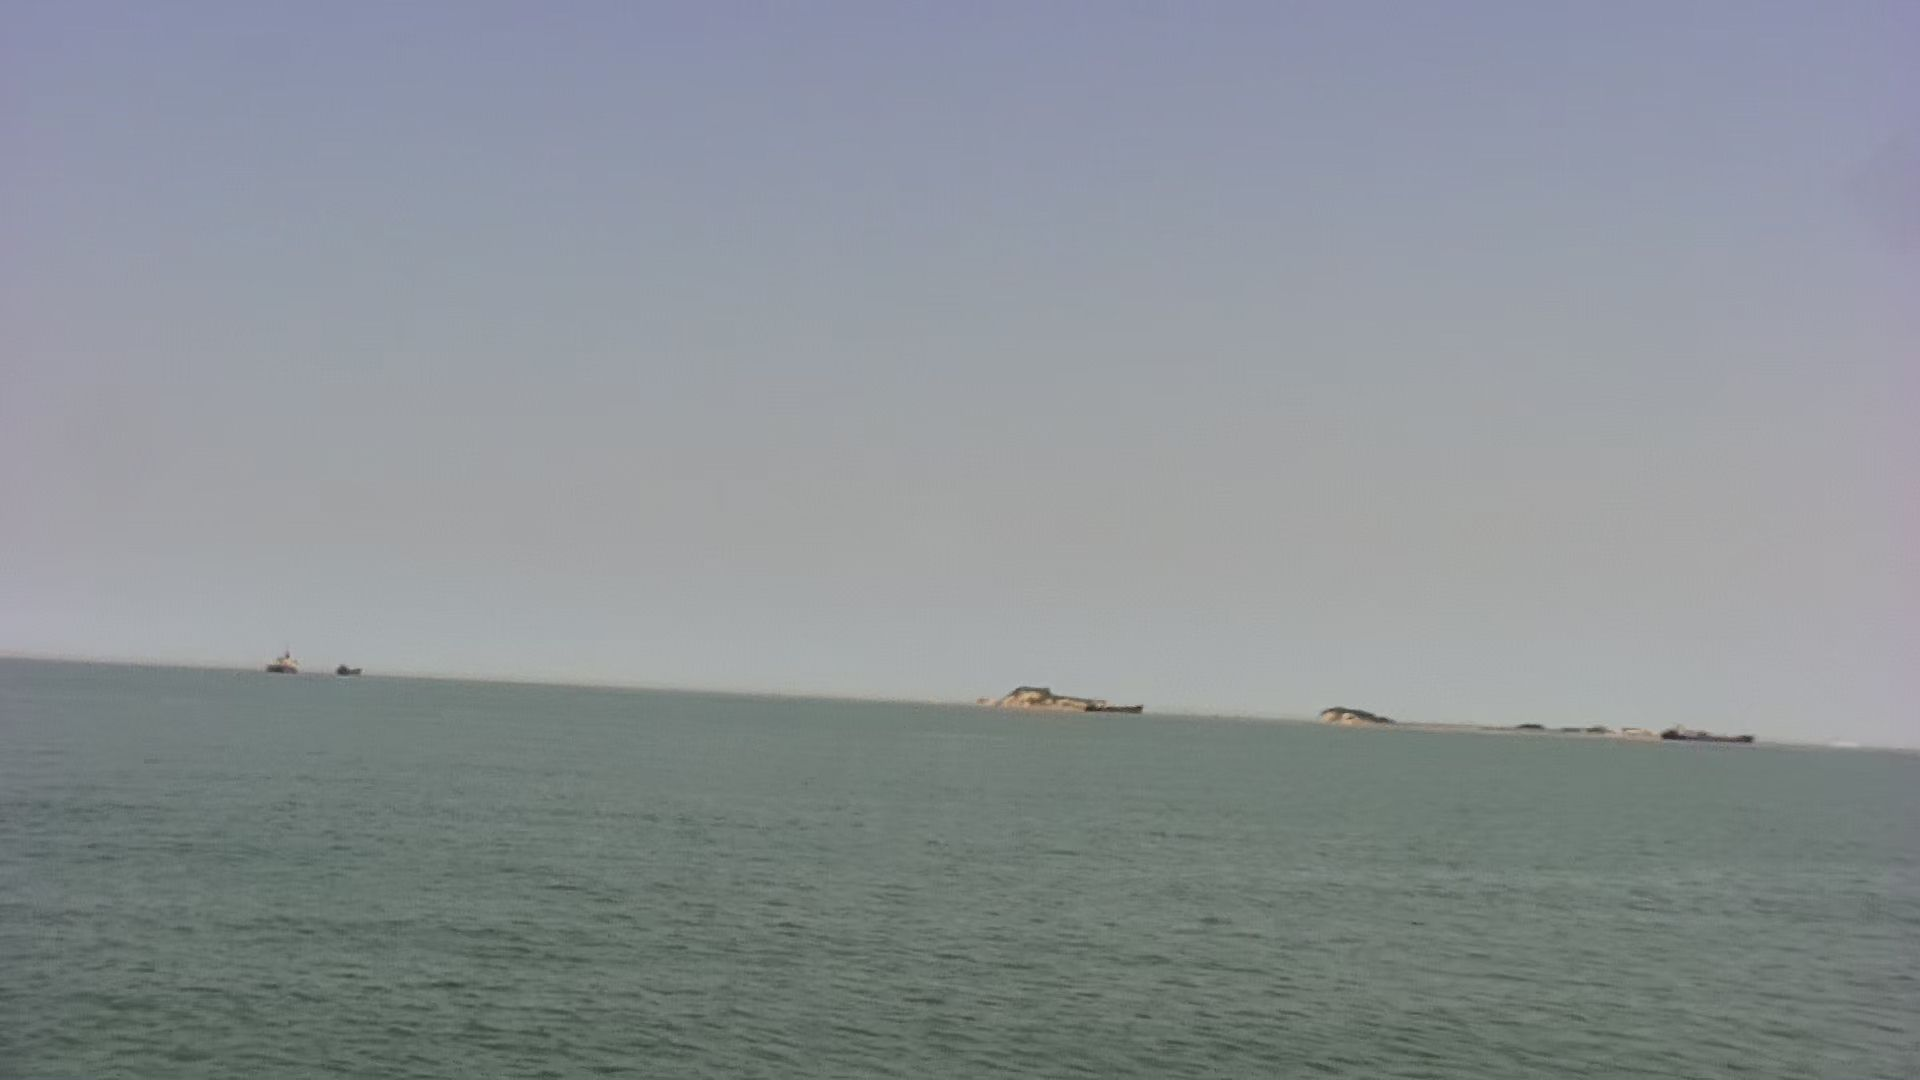rock: (986, 676, 1154, 717), (1312, 696, 1393, 727)
